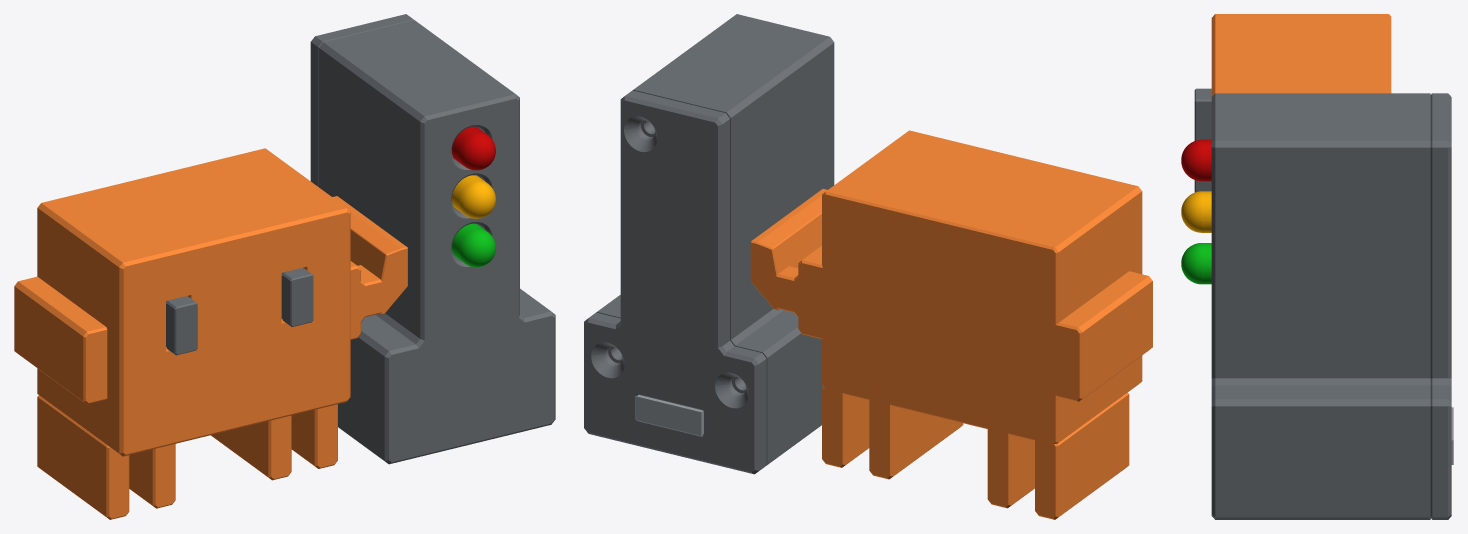
File: broglow.glb
The picture shows the model from 3 angles, left to right: view 1: azimuth 30°, elevation 25°; view 2: azimuth 150°, elevation 25°; view 3: azimuth 270°, elevation 25°; orthographic projection. The views are drawn at different scales.
Visible parts, largest first — view 1: Mascot_slim_round2, Traffic_Light_flush_round2, black_flat_rear_cover_USB_and_PCB_end_stops, black_eye_right, black_eye_left, REFERENCE_ONLY_LED_0, REFERENCE_ONLY_LED_2, REFERENCE_ONLY_LED_1; view 2: Mascot_slim_round2, black_flat_rear_cover_USB_and_PCB_end_stops, Traffic_Light_flush_round2, REFERENCE_ONLY_USB_shell; view 3: Traffic_Light_flush_round2, Mascot_slim_round2, black_flat_rear_cover_USB_and_PCB_end_stops, REFERENCE_ONLY_LED_2, REFERENCE_ONLY_LED_0, REFERENCE_ONLY_LED_1, black_eye_left.
Part boxes in pixels (x1,y1,x2,y2): Mascot_slim_round2: (14,148,407,519); Traffic_Light_flush_round2: (319,20,555,464); black_flat_rear_cover_USB_and_PCB_end_stops: (310,14,413,186); black_eye_right: (281,268,313,326); black_eye_left: (166,296,197,355); REFERENCE_ONLY_LED_0: (452,223,495,267); REFERENCE_ONLY_LED_2: (452,126,495,170); REFERENCE_ONLY_LED_1: (452,175,495,218); Mascot_slim_round2: (750,130,1152,519); black_flat_rear_cover_USB_and_PCB_end_stops: (584,90,766,474); Traffic_Light_flush_round2: (596,14,834,465); REFERENCE_ONLY_USB_shell: (636,395,703,435); Traffic_Light_flush_round2: (1211,93,1430,519); Mascot_slim_round2: (1211,14,1391,96); black_flat_rear_cover_USB_and_PCB_end_stops: (1430,93,1451,519); REFERENCE_ONLY_LED_2: (1181,139,1211,181); REFERENCE_ONLY_LED_0: (1181,243,1211,284); REFERENCE_ONLY_LED_1: (1181,191,1211,232); black_eye_left: (1194,88,1211,140).
Bounding box in the file's own units: 0.0645 × 0.0455 × 0.0311.
